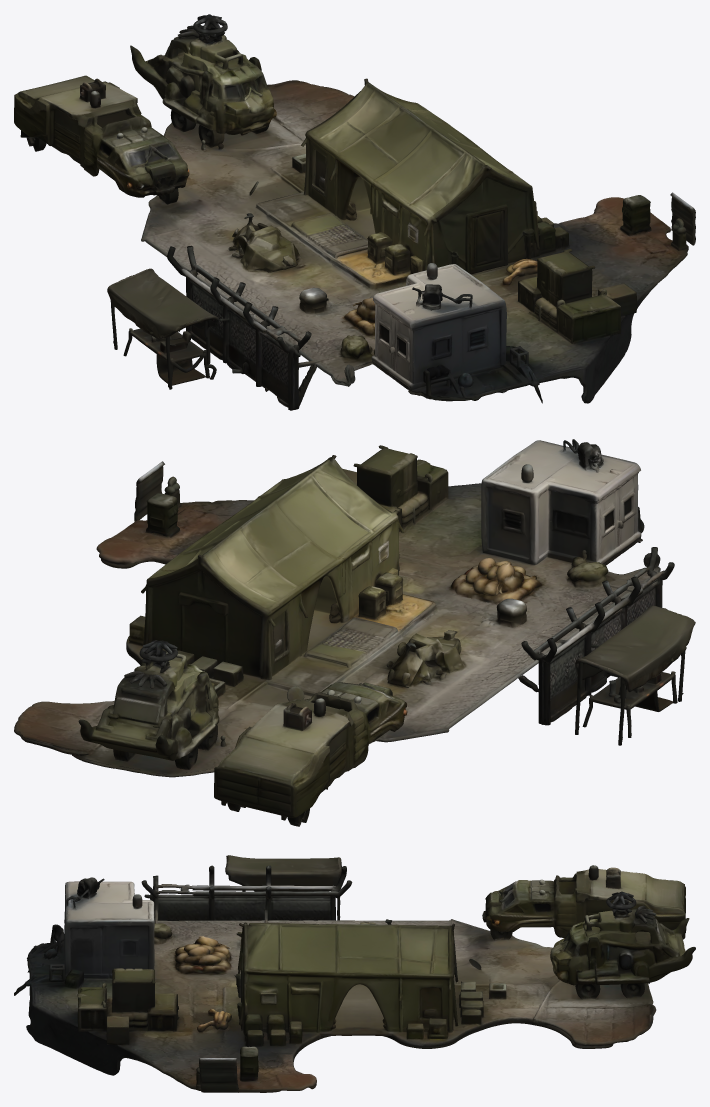
File: tripo_convert_92164739-a951-4c38-881c-2bc892c42c86.fbx
The picture shows the model from 3 angles, top to bottom: view 1: azimuth 30°, elevation 25°; view 2: azimuth 150°, elevation 25°; view 3: azimuth 270°, elevation 25°; orthographic projection. The views are drawn at different scales.
Visible parts, largest first — view 1: tripo_node_92164739; view 2: tripo_node_92164739; view 3: tripo_node_92164739.
Part boxes in pixels (left/top/right/bottom): tripo_node_92164739: left=14, top=14, right=695, bottom=410; tripo_node_92164739: left=14, top=439, right=695, bottom=826; tripo_node_92164739: left=14, top=855, right=695, bottom=1092.
Size of the model in its own units: 0.7342 by 0.2111 by 0.9819.
